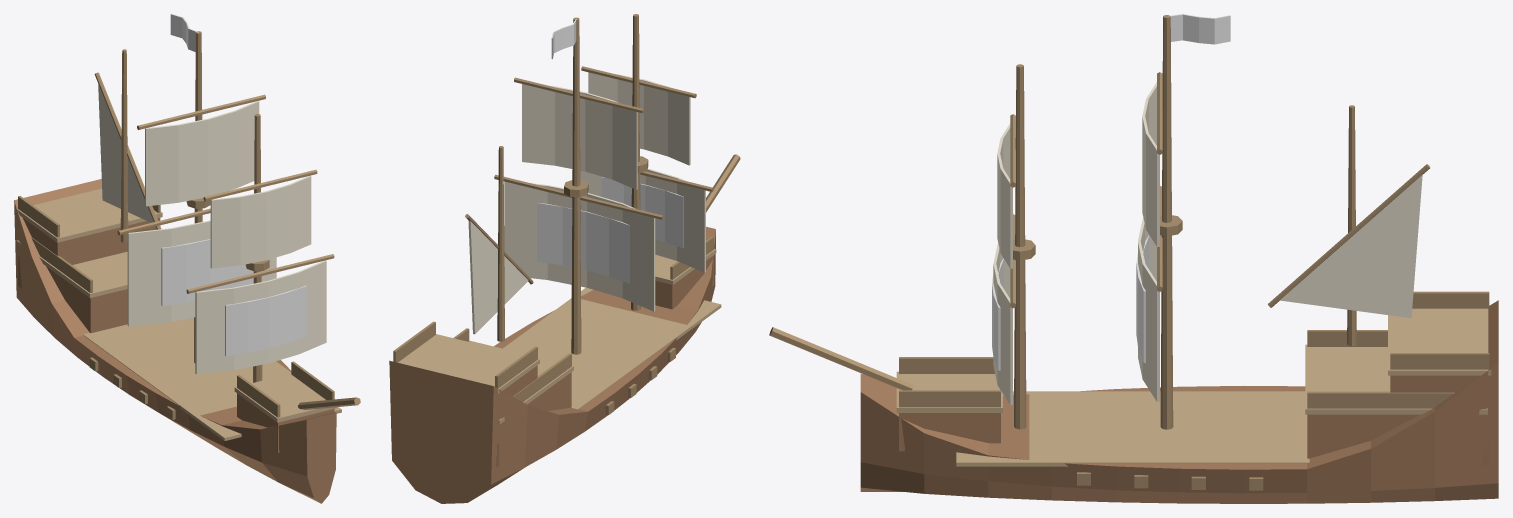
The model's file is civ_unit_galleon.glb.
The picture shows the model from 3 angles, left to right: view 1: azimuth 30°, elevation 25°; view 2: azimuth 150°, elevation 25°; view 3: azimuth 270°, elevation 25°; orthographic projection. The views are drawn at different scales.
Parts seen in each view (by area): view 1: civ_unit_galleon; view 2: civ_unit_galleon; view 3: civ_unit_galleon.
Boxes of the visible parts, x1,y1,x2,y2 form: civ_unit_galleon: (14, 14, 360, 503); civ_unit_galleon: (389, 14, 740, 503); civ_unit_galleon: (769, 14, 1498, 503).
Bounding box in the file's own units: 3.36 × 7.4 × 10.29.
